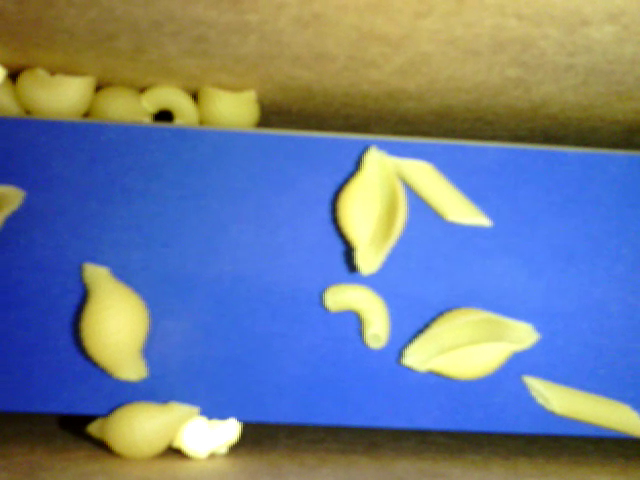elbow: (320, 283, 391, 350), (142, 85, 201, 125)
penne: (387, 153, 496, 231), (522, 373, 639, 436)
shell: (399, 304, 540, 380), (334, 144, 410, 276), (79, 263, 152, 382), (87, 399, 203, 459), (17, 66, 95, 122), (194, 82, 259, 132), (92, 86, 153, 125)
